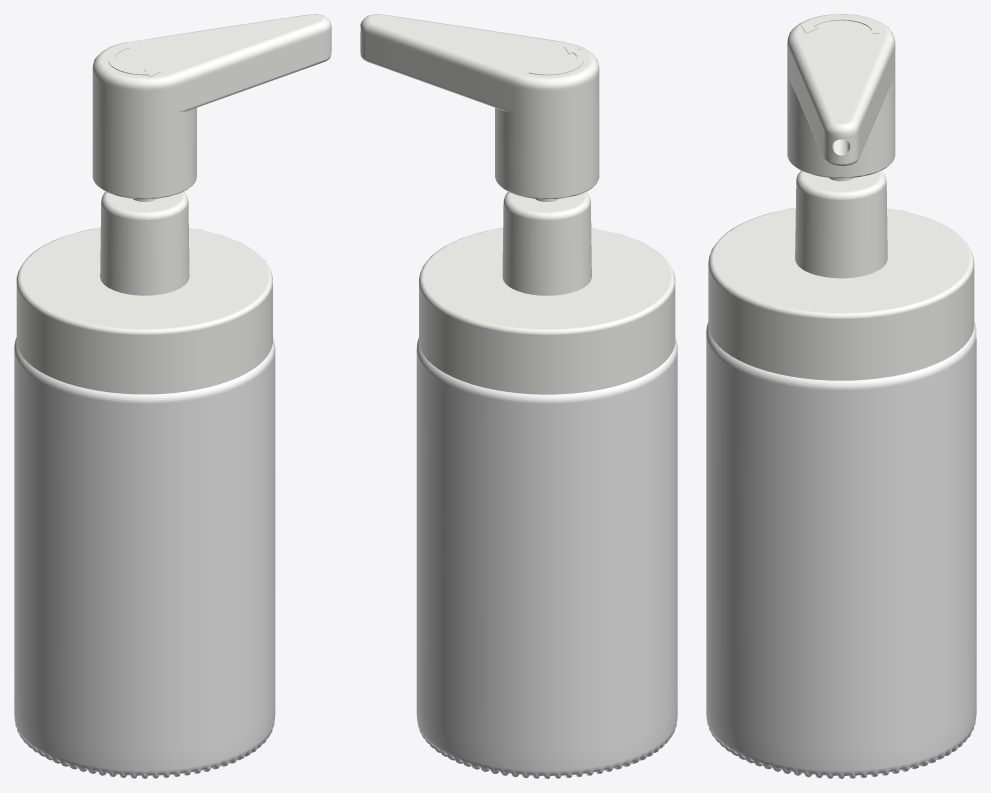
Rendered from tackan_dozownik_myda_90322303.glb.
3 renders of one model, left to right at view 1: azimuth 30°, elevation 25°; view 2: azimuth 150°, elevation 25°; view 3: azimuth 270°, elevation 25°, orthographic. The views are drawn at different scales.
Visible parts, largest first — view 1: tackan_dozownik_myda_90322303; view 2: tackan_dozownik_myda_90322303; view 3: tackan_dozownik_myda_90322303.
Boxes of the visible parts, x1,y1,x2,y2 form: tackan_dozownik_myda_90322303: (14,14,331,778); tackan_dozownik_myda_90322303: (360,14,677,778); tackan_dozownik_myda_90322303: (706,14,976,778).
Bounding box in the file's own units: 0.079 × 0.1695 × 0.0601.
2 materials, 2 textured.
